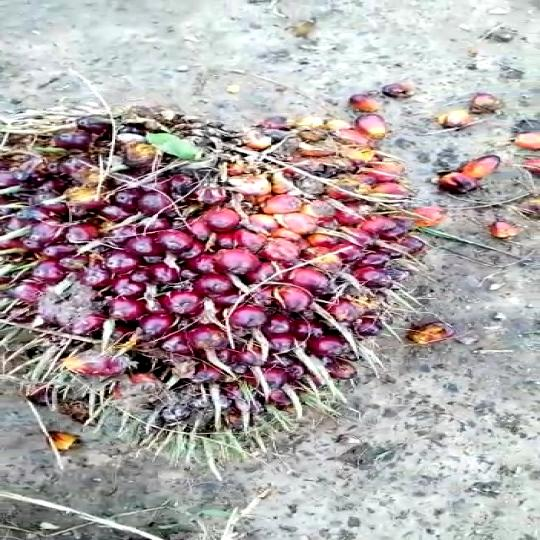masak: (0, 90, 481, 452)
